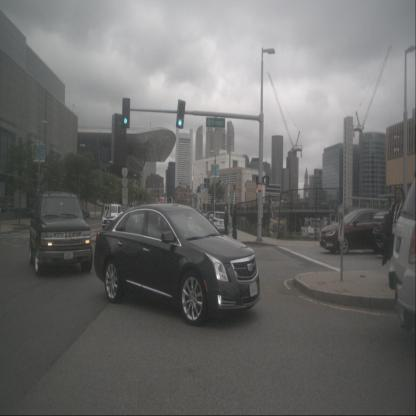human-pedestrian-adult: (380, 183, 407, 294), (231, 204, 237, 240), (223, 207, 229, 238)
vehicle-car: (94, 202, 262, 327), (29, 188, 93, 276), (388, 167, 416, 330), (319, 208, 398, 255), (372, 196, 416, 261), (102, 203, 124, 230), (212, 211, 228, 235), (208, 214, 220, 230), (206, 210, 218, 226), (281, 197, 290, 206)
